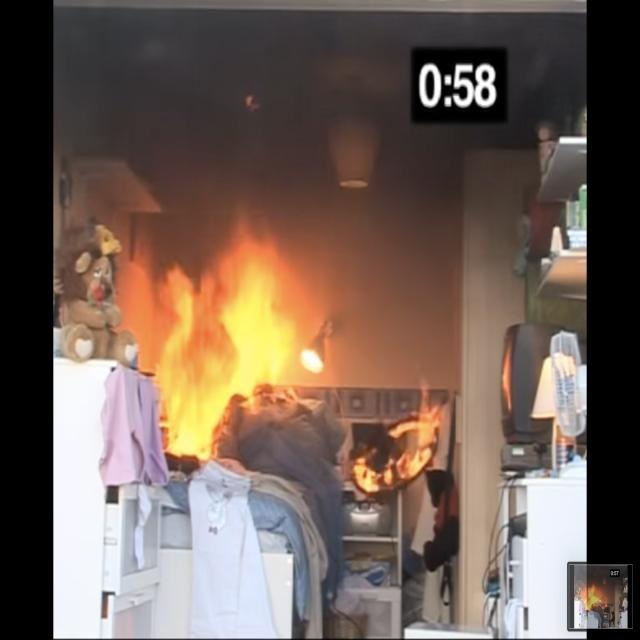Fogo: (135, 216, 454, 528)
